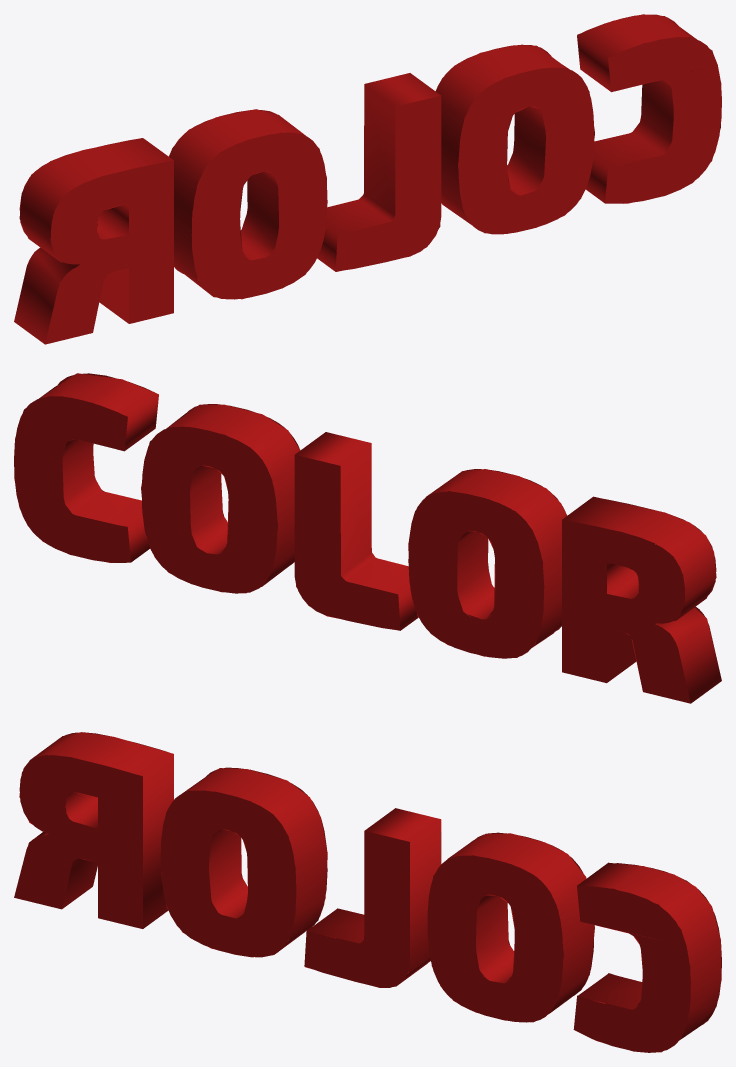
The model's file is color.fbx.
3 renders of one model, top to bottom at view 1: azimuth 30°, elevation 25°; view 2: azimuth 150°, elevation 25°; view 3: azimuth 330°, elevation 25°, orthographic.
Parts seen in each view (by area): view 1: Text; view 2: Text; view 3: Text.
Boxes of the visible parts, left/top/right/bottom form: Text: left=14, top=14, right=721, bottom=344; Text: left=14, top=373, right=721, bottom=703; Text: left=14, top=732, right=721, bottom=1052.
Size of the model in its own units: 10.05 by 2.25 by 0.8.
